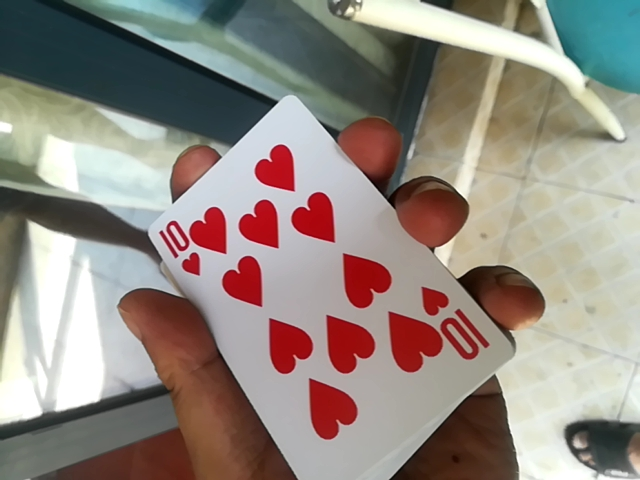hx 10: (86, 94, 498, 480)
